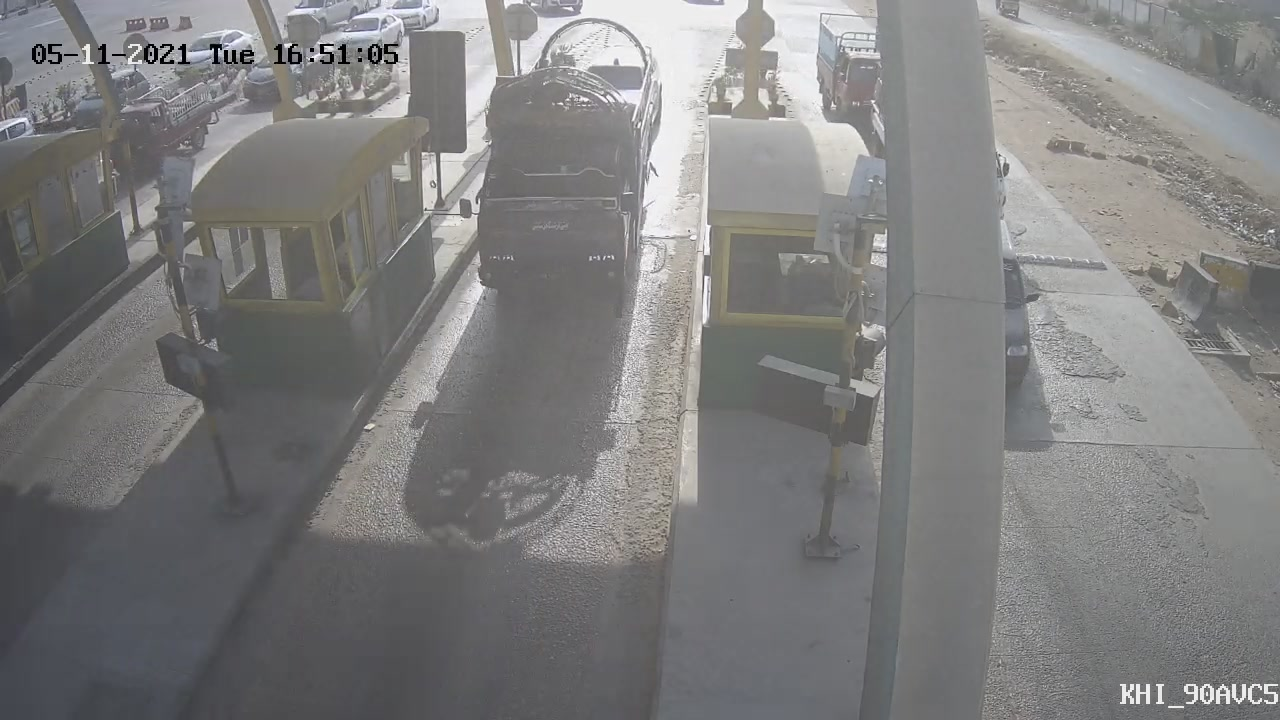F5: (438, 5, 686, 318)
